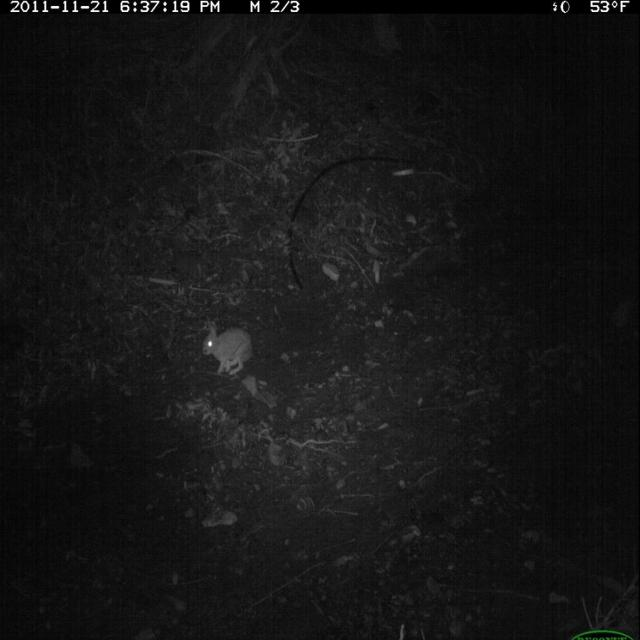rabbit: (201, 313, 254, 381)
